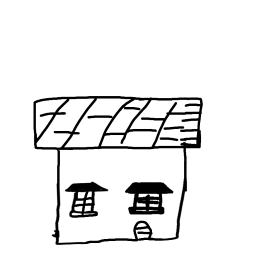bottom_placed_house: (1, 1, 260, 260)
closed_window: (123, 170, 176, 218), (63, 174, 110, 224)
door: (131, 217, 157, 247)
roof: (22, 88, 213, 154)
wall: (49, 140, 190, 249)
